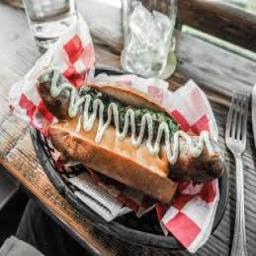hotdog: (34, 67, 222, 196)
